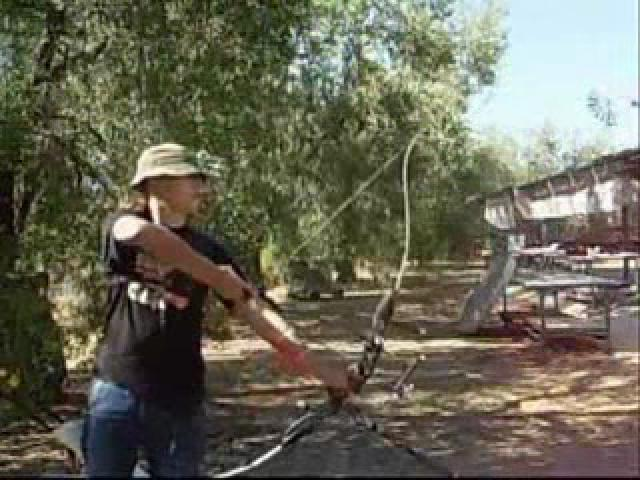I: (94, 140, 377, 480)
